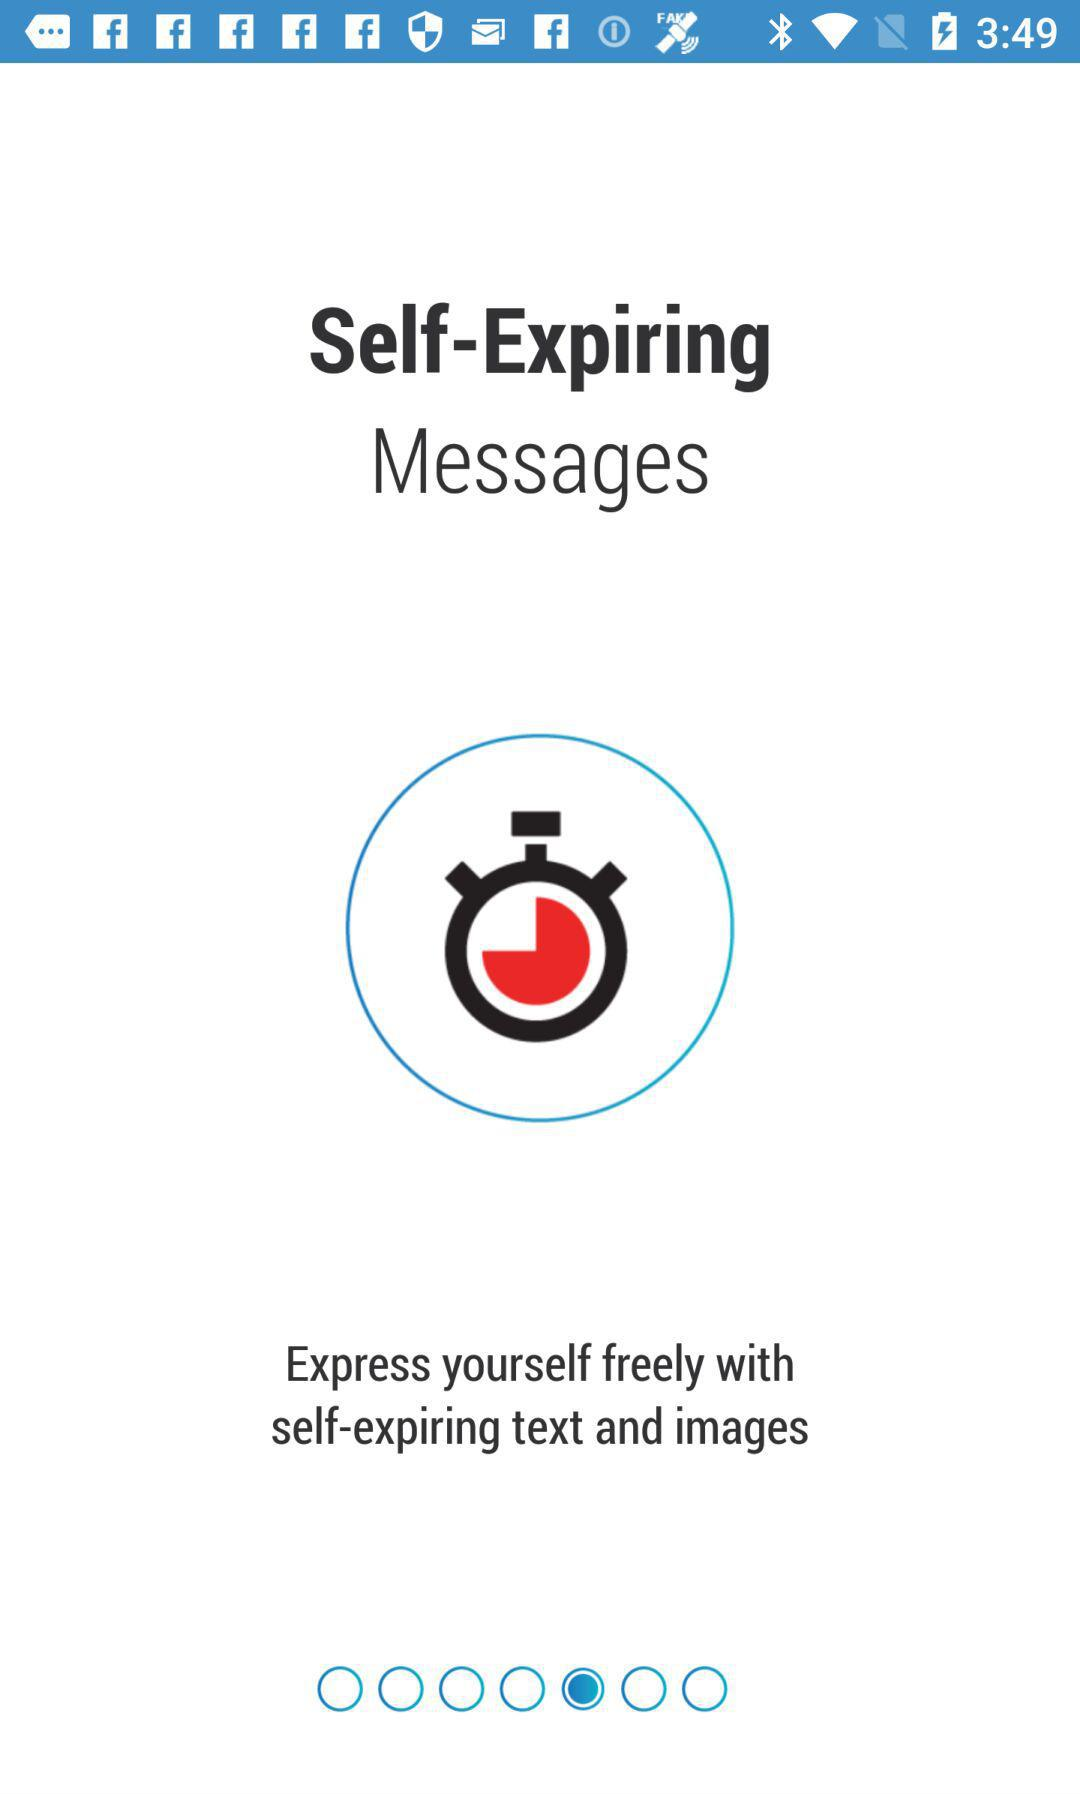Image: (345, 730, 737, 1126)
PageIndicator: (316, 1663, 730, 1715)
Text: (272, 1339, 810, 1460), (310, 301, 773, 397), (374, 425, 712, 516)
UpperTaskBar: (1, 1, 1080, 64)
